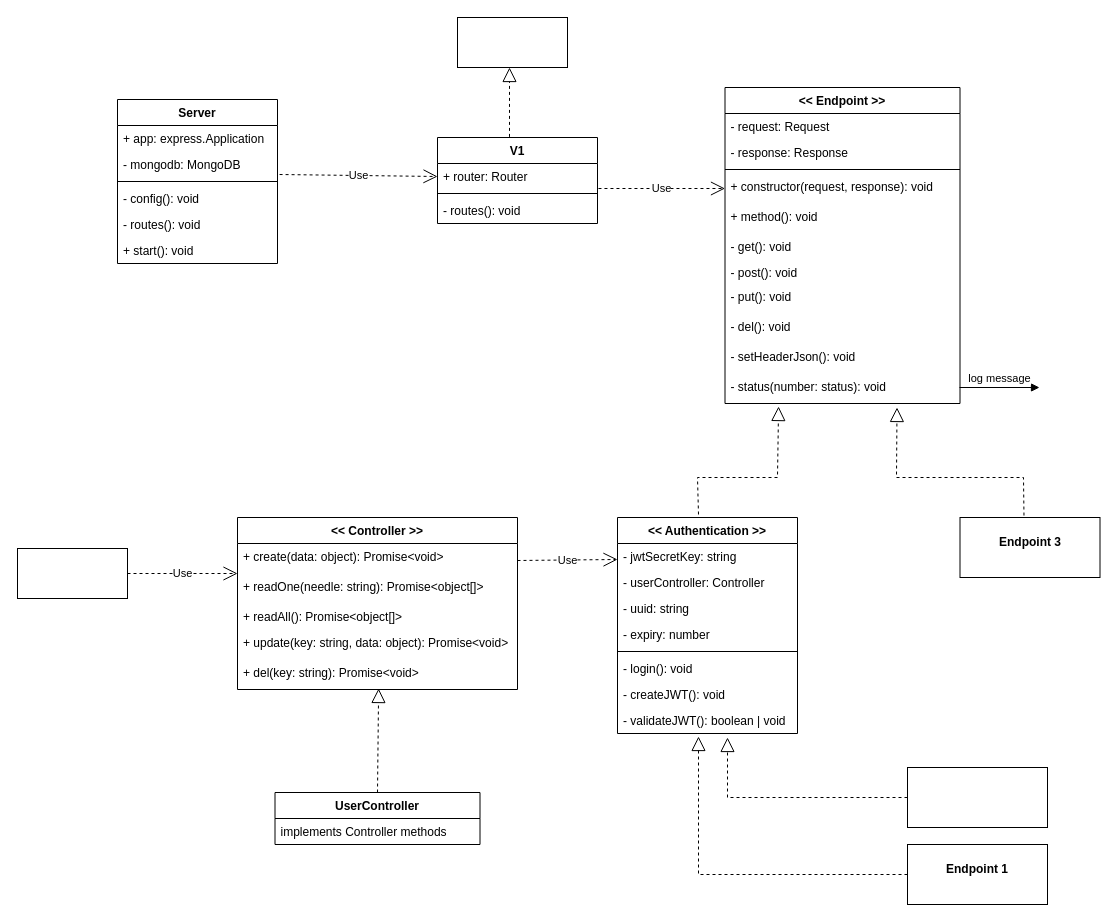
The diagram is 1118 pixels wide and 922 high, and some of its shapes have lost their labels. Each missing label, with the centre of its shape:
"Endpoint 2" belongs at [977,797].
"«interface» Routes" belongs at [512,42].
"«interface» UserInterface" belongs at [72,573].
